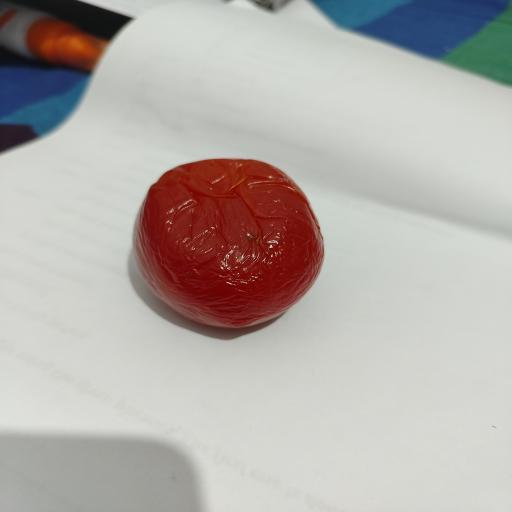spoiled: (134, 159, 324, 327)
